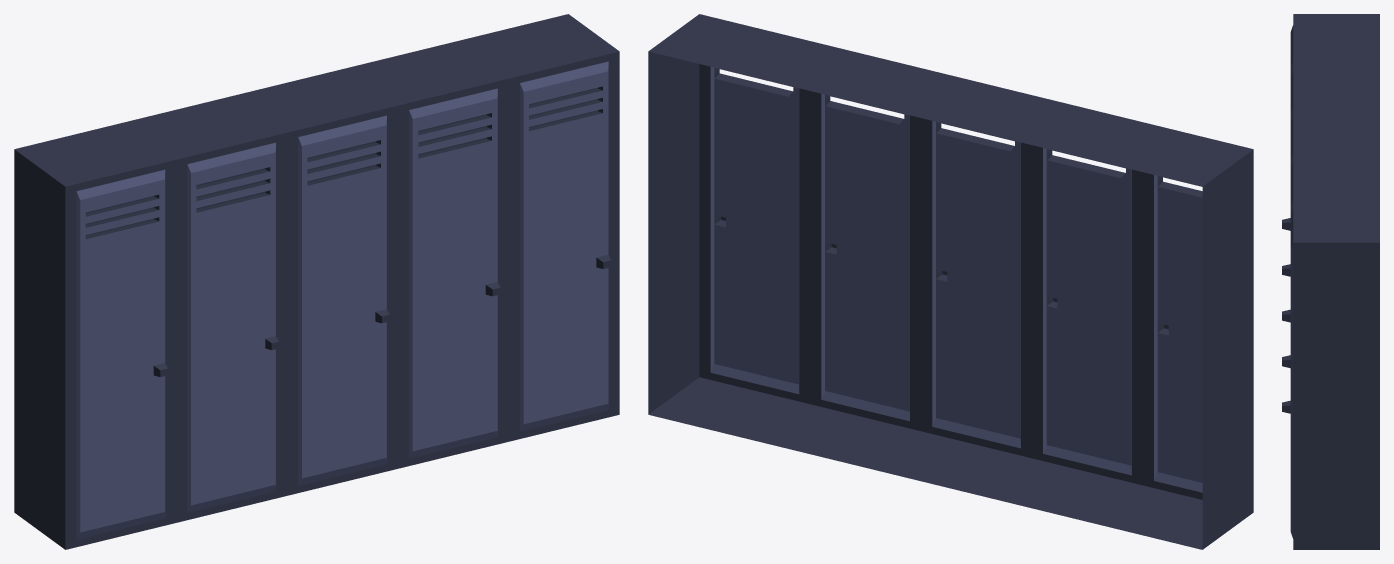
File: lockers.fbx
The picture shows the model from 3 angles, left to right: view 1: azimuth 30°, elevation 25°; view 2: azimuth 150°, elevation 25°; view 3: azimuth 270°, elevation 25°; orthographic projection. The views are drawn at different scales.
Parts seen in each view (by area): view 1: Cube.046; view 2: Cube.046; view 3: Cube.046.
Part boxes in pixels (x1,y1,x2,y2): Cube.046: [14, 14, 619, 549]; Cube.046: [648, 14, 1253, 549]; Cube.046: [1282, 14, 1379, 549].
Bounding box in the file's own units: 319 × 200 × 57.73.
